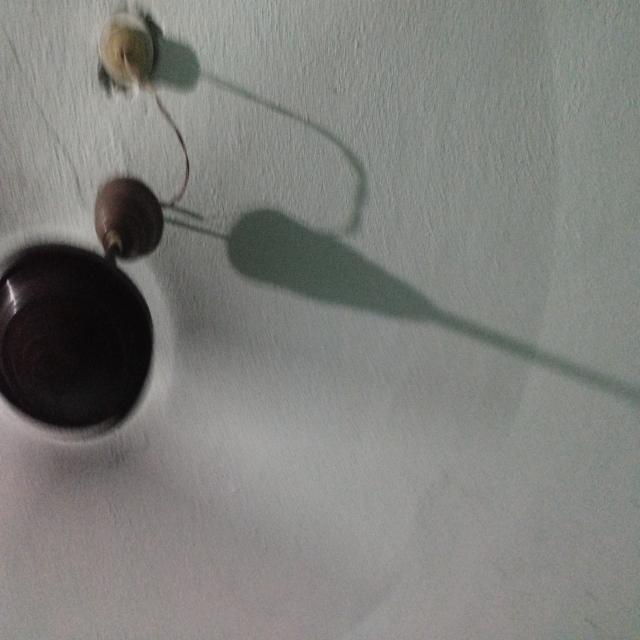fan_on: (0, 0, 551, 640)
